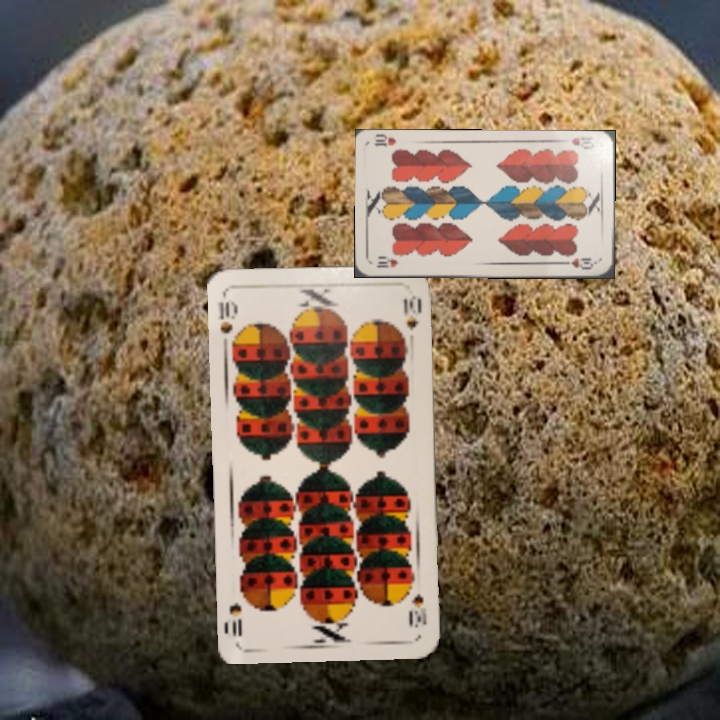H10: (568, 133, 596, 152), (372, 253, 401, 270)
S10: (214, 297, 240, 350), (407, 590, 429, 631)
